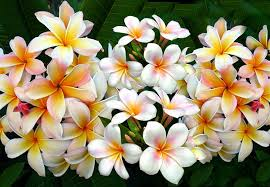frangipani: (143, 122, 196, 187)
